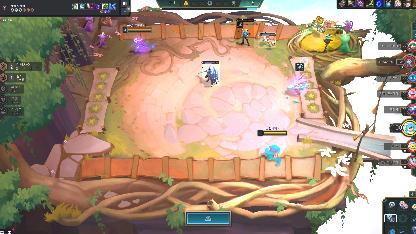1_ezreal: (236, 18, 254, 48)
1_leona: (202, 62, 220, 86)
1_twitch: (258, 32, 276, 48)
